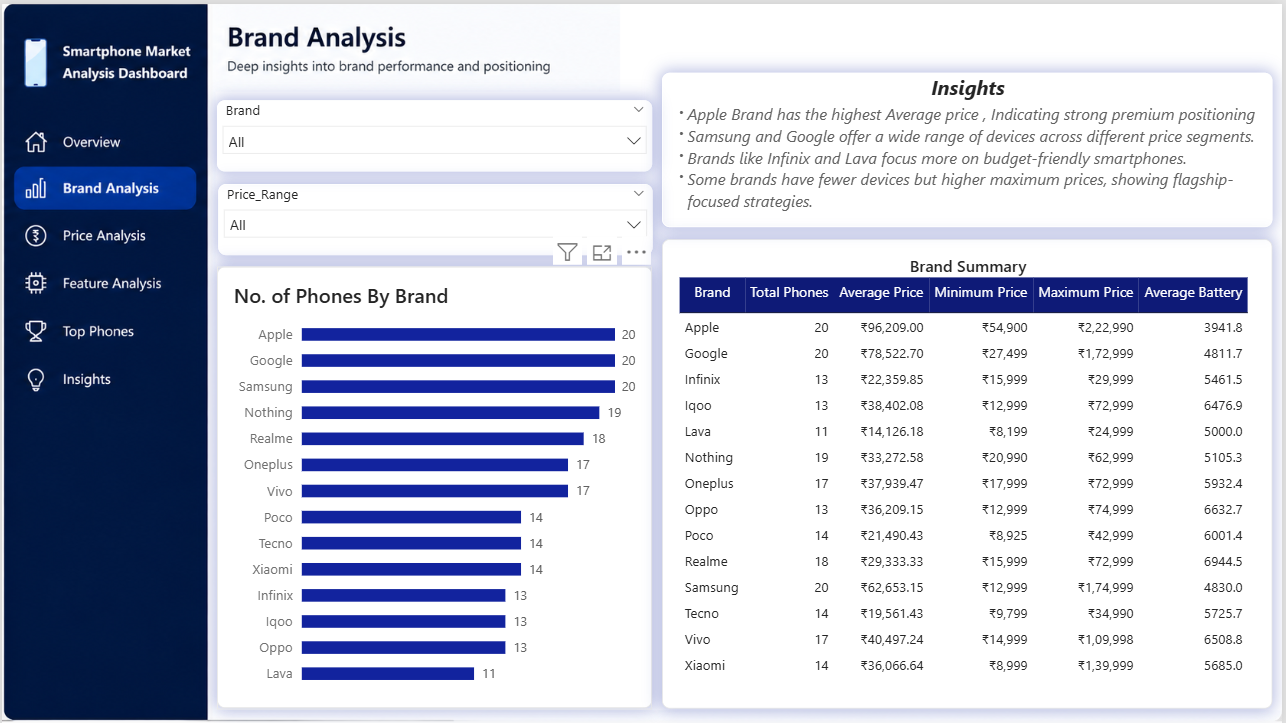

The page's visual inventory and layout, read from the dashboard file:
{"tool":"powerbi","page":{"name":"Brand Analysis","canvas":[1280,720],"ordinal":1},"visuals":[{"type":"actionButton","box":[18.1,216,185.8,39.8],"z":0},{"type":"actionButton","box":[8.4,255.8,185.8,39.8],"z":1000},{"type":"actionButton","box":[18.1,305.2,185.8,39.8],"z":2000},{"type":"actionButton","box":[8.4,359.5,185.8,48.3],"z":3000},{"type":"actionButton","box":[18.1,117,185.8,41],"z":4000},{"type":"slicer","fields":{"Values":["Phone_Specs.brand"]},"box":[214.7,96.5,435.5,71.2],"z":5000},{"type":"slicer","fields":{"Values":["Phone_Specs.Price_Range"]},"box":[216,179.8,434.3,71.2],"z":6000},{"type":"barChart","title":"No. of Phones By Brand","fields":{"Category":["Phone_Specs.brand"],"Y":["CountNonNull(Phone_Specs.phone_name)"]},"box":[214.7,263,435.5,441.6],"z":8000},{"type":"tableEx","title":"Brand Summary","fields":{"Values":["Phone_Specs.brand","Phone_Specs.phone_name","Avg(Phone_Specs.price_inr)","Min(Phone_Specs.price_inr)1","Max(Phone_Specs.price_inr)2","Avg(Phone_Specs.battery)"]},"box":[659.9,235.3,610.5,469.3],"z":9000},{"type":"shape","title":"Insights","box":[659.9,68.8,610.5,154.4],"z":10000},{"type":"textbox","box":[667.2,98.9,612.9,152],"z":12500}]}

Visuals, with their boxes on the page's 1280x720 design canvas (x1, y1, x2, y2). These are canvas units, not pixel positions in the 1286x723 screenshot, which may show the page scaled, cropped or inside an application window:
actionButton: 18:216:204:256
actionButton: 8:256:194:296
actionButton: 18:305:204:345
actionButton: 8:360:194:408
actionButton: 18:117:204:158
slicer - Phone_Specs.brand: 215:96:650:168
slicer - Phone_Specs.Price_Range: 216:180:650:251
"No. of Phones By Brand" barChart: 215:263:650:705
"Brand Summary" tableEx: 660:235:1270:705
"Insights" shape: 660:69:1270:223
textbox: 667:99:1280:251
